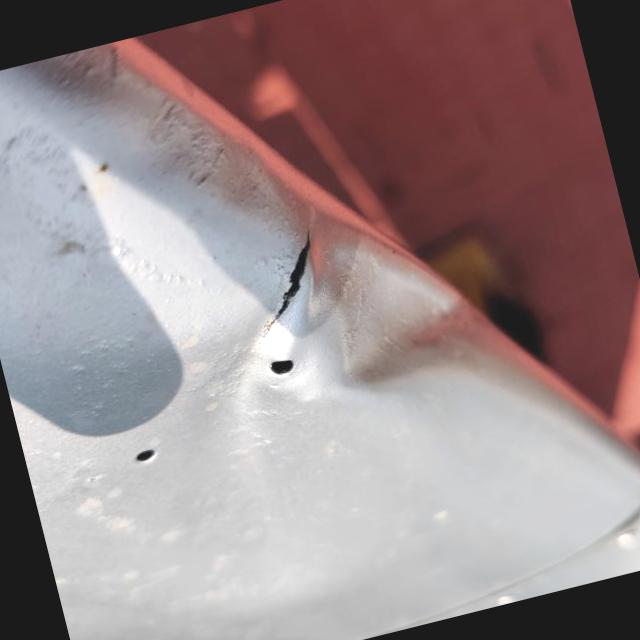crack: (215, 204, 356, 354)
dent: (278, 159, 531, 449)
